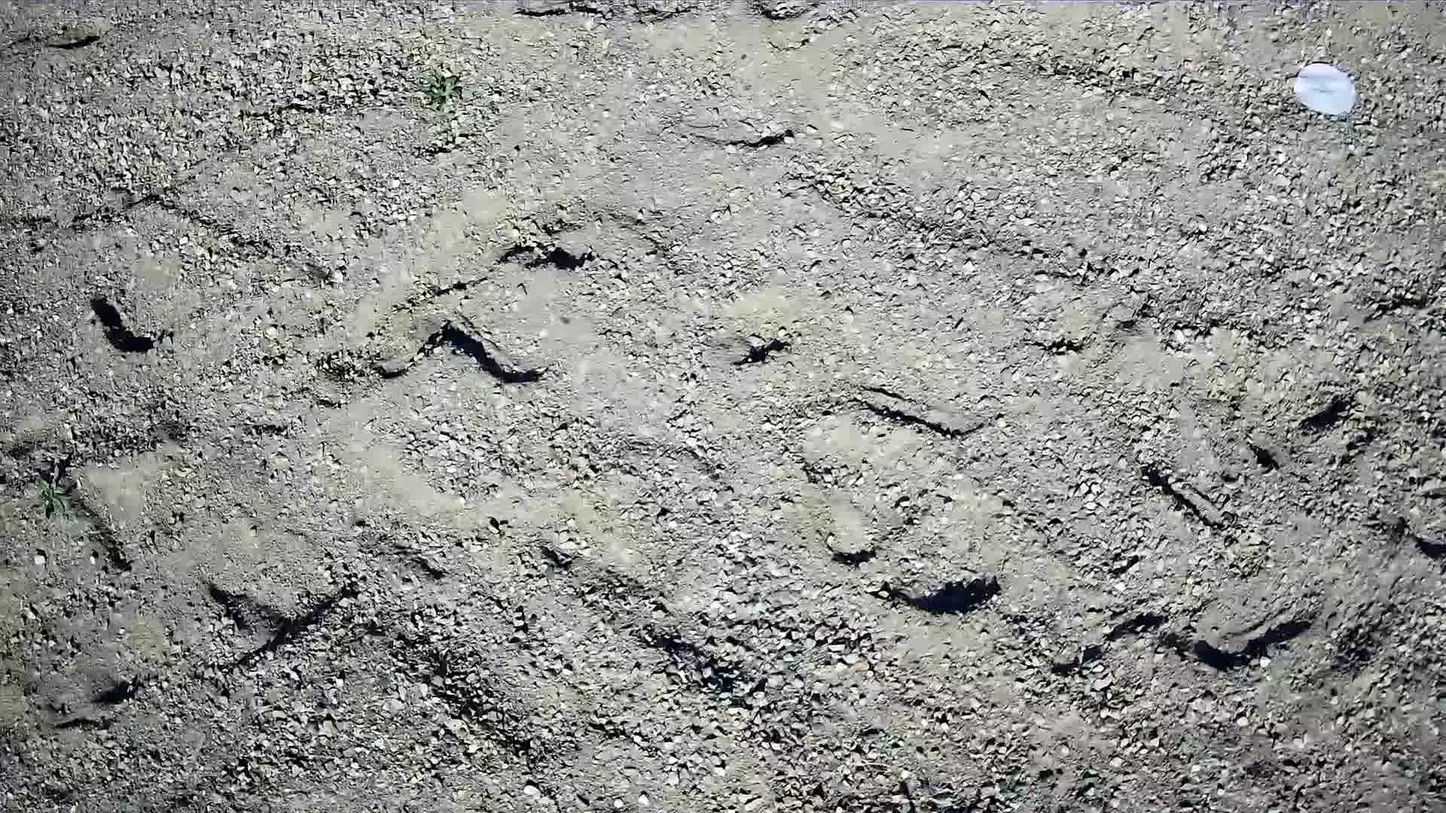Target: (1292, 63, 1357, 115)
